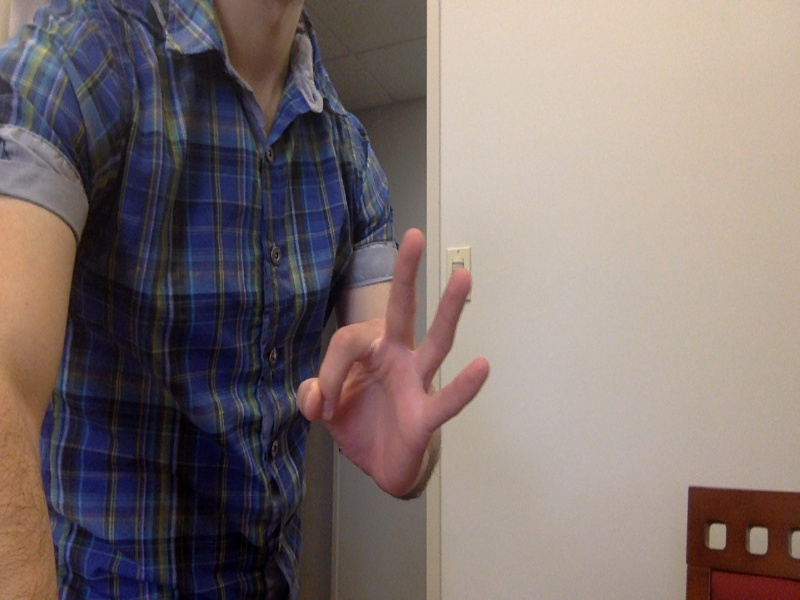3-hand: (303, 228, 490, 500)
